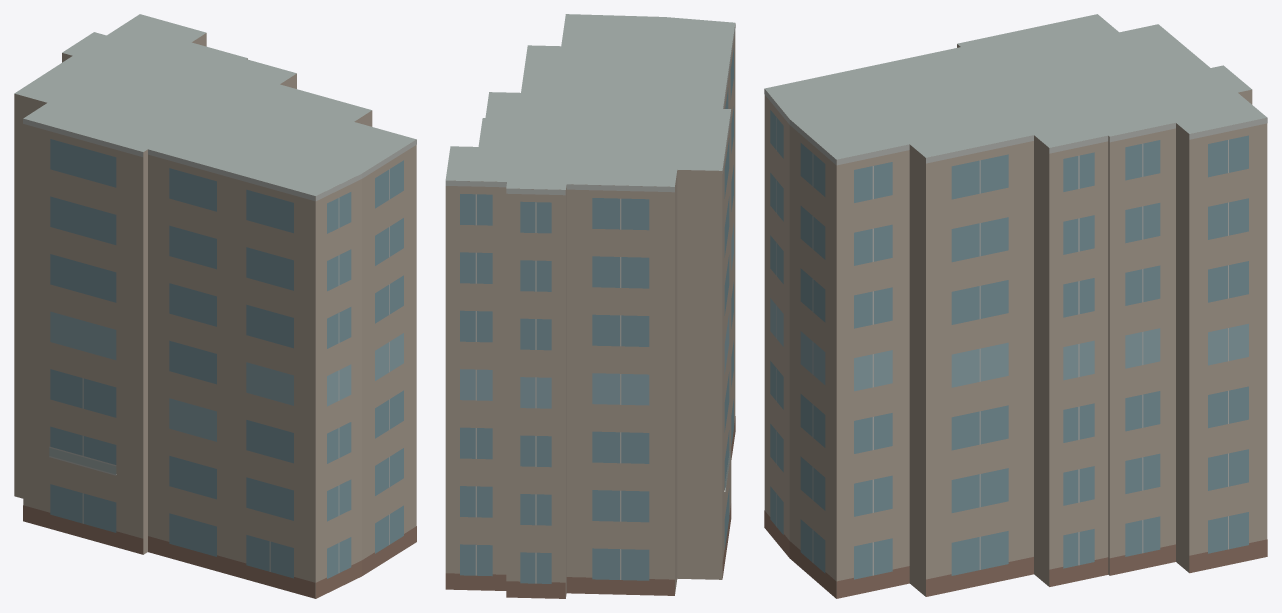
The model's file is survey-upis-32957000.glb.
The picture shows the model from 3 angles, left to right: view 1: azimuth 30°, elevation 25°; view 2: azimuth 150°, elevation 25°; view 3: azimuth 270°, elevation 25°; orthographic projection. The views are drawn at different scales.
Parts seen in each view (by area): view 1: survey-upis-32957000.tmp; view 2: survey-upis-32957000.tmp; view 3: survey-upis-32957000.tmp.
Part boxes in pixels (x1=…): survey-upis-32957000.tmp: x1=14, y1=14, x2=416, y2=598; survey-upis-32957000.tmp: x1=445, y1=14, x2=735, y2=598; survey-upis-32957000.tmp: x1=764, y1=14, x2=1267, y2=598.
Bounding box in the file's own units: 13.35 × 18.75 × 19.47.
